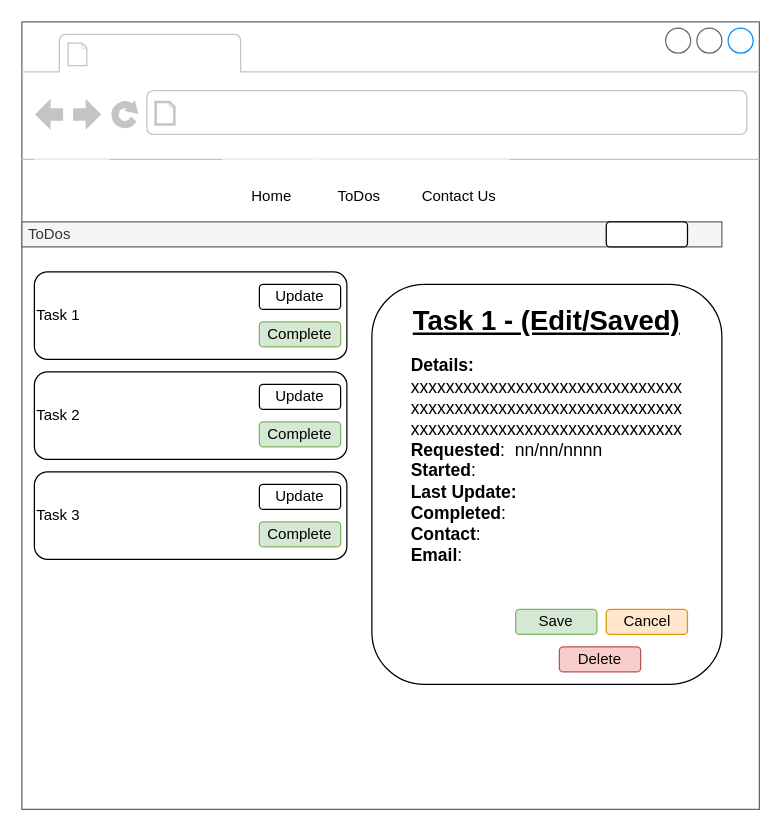
Some shapes in this 781 by 831 pixel diagram are drawn without their labels. Each missing label, with the centre of its shape:
"Add Task" belongs at point (646, 234).
"https://www.taskmanagement.com/todos" belongs at point (329, 114).
"Page 2" belongs at point (166, 52).
"Task Management" belongs at point (71, 196).
